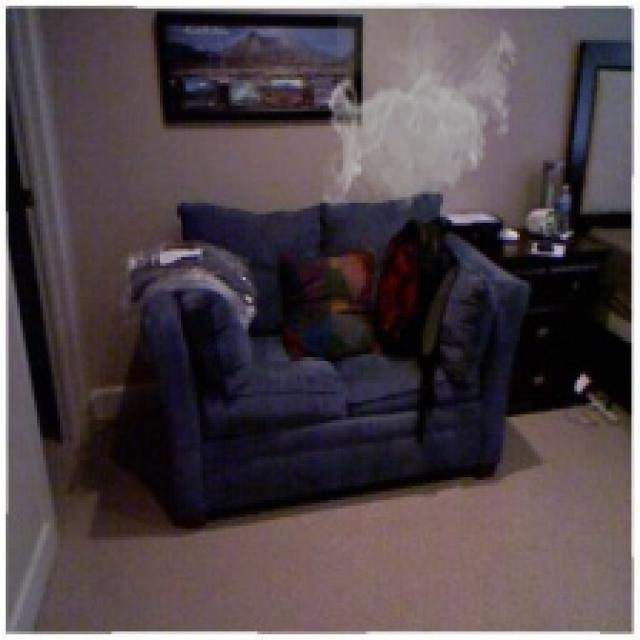Smoke: (323, 3, 523, 214)
